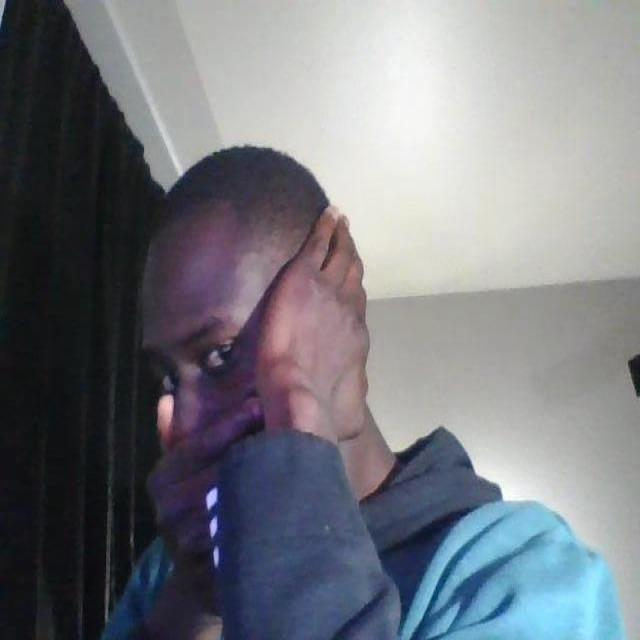no-helmet: (146, 293, 272, 459)
